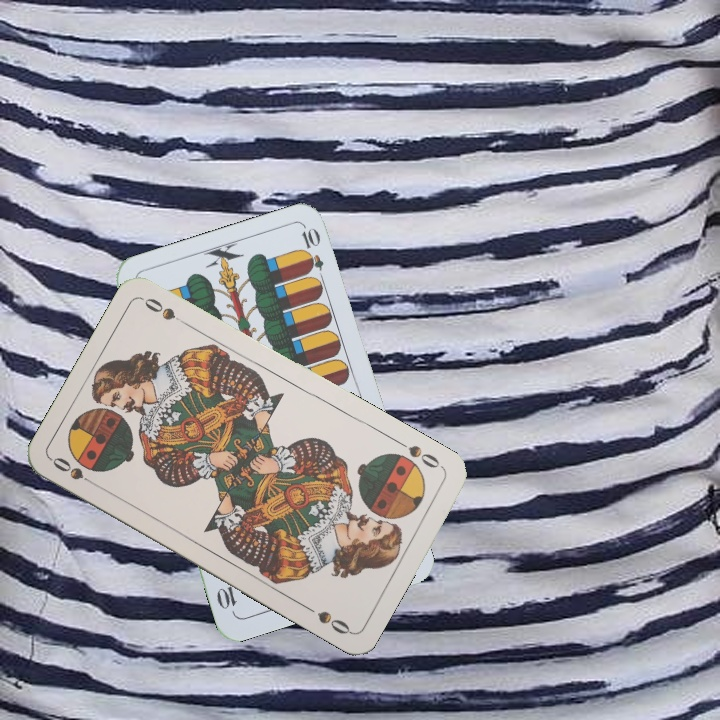SO: (48, 453, 102, 490), (393, 436, 447, 473)
